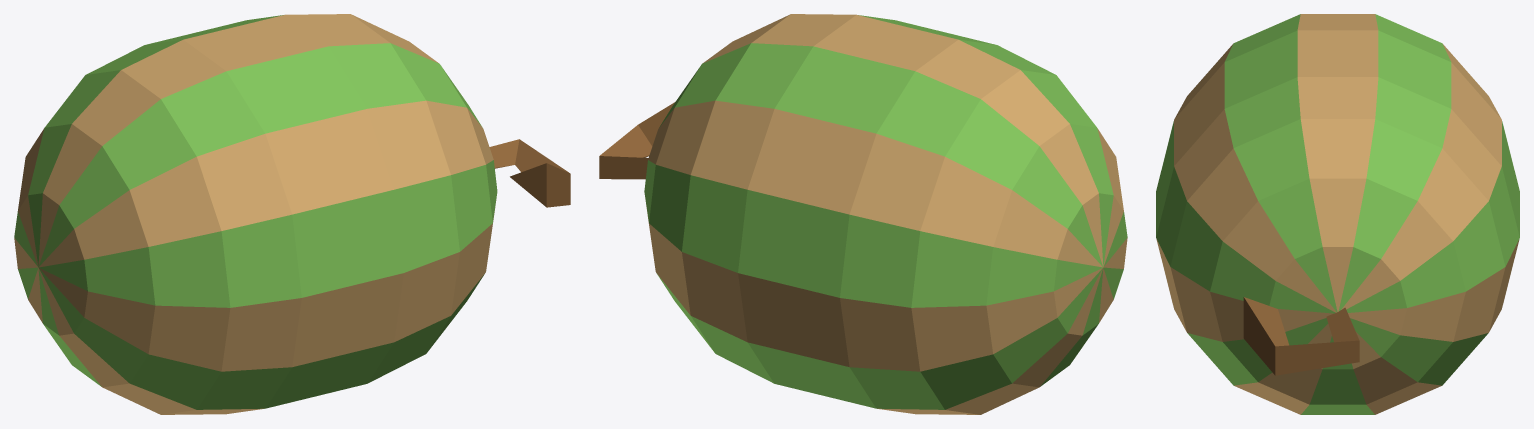
The model's file is plants_g.gltf.
3 renders of one model, left to right at view 1: azimuth 30°, elevation 25°; view 2: azimuth 150°, elevation 25°; view 3: azimuth 270°, elevation 25°, orthographic. The views are drawn at different scales.
Visible parts, largest first — view 1: plants_g001; view 2: plants_g001; view 3: plants_g001.
Part boxes in pixels (left/top/right/bottom): plants_g001: left=14, top=14, right=570, bottom=414; plants_g001: left=599, top=14, right=1127, bottom=414; plants_g001: left=1156, top=14, right=1519, bottom=414.
Size of the model in its own units: 0.3779 by 0.2483 by 0.2546.
1 material, 1 textured.
